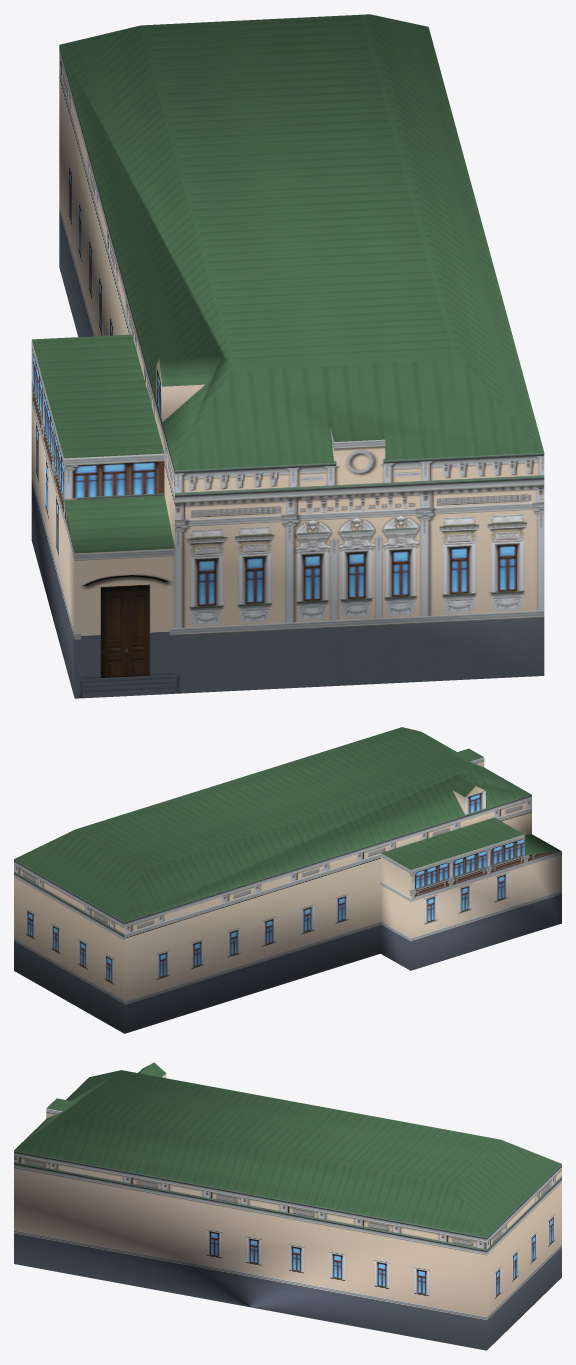
File: lp-building11.fbx
3 renders of one model, top to bottom at view 1: azimuth 30°, elevation 25°; view 2: azimuth 150°, elevation 25°; view 3: azimuth 270°, elevation 25°, orthographic. The views are drawn at different scales.
Parts seen in each view (by area): view 1: 01houses.024; view 2: 01houses.024; view 3: 01houses.024.
Boxes of the visible parts, bbox=[...] form: 01houses.024: bbox=[31, 14, 544, 698]; 01houses.024: bbox=[14, 727, 561, 1033]; 01houses.024: bbox=[14, 1062, 561, 1350].
Size of the model in its own units: 936 by 347 by 1205.
1 material, 1 textured.
